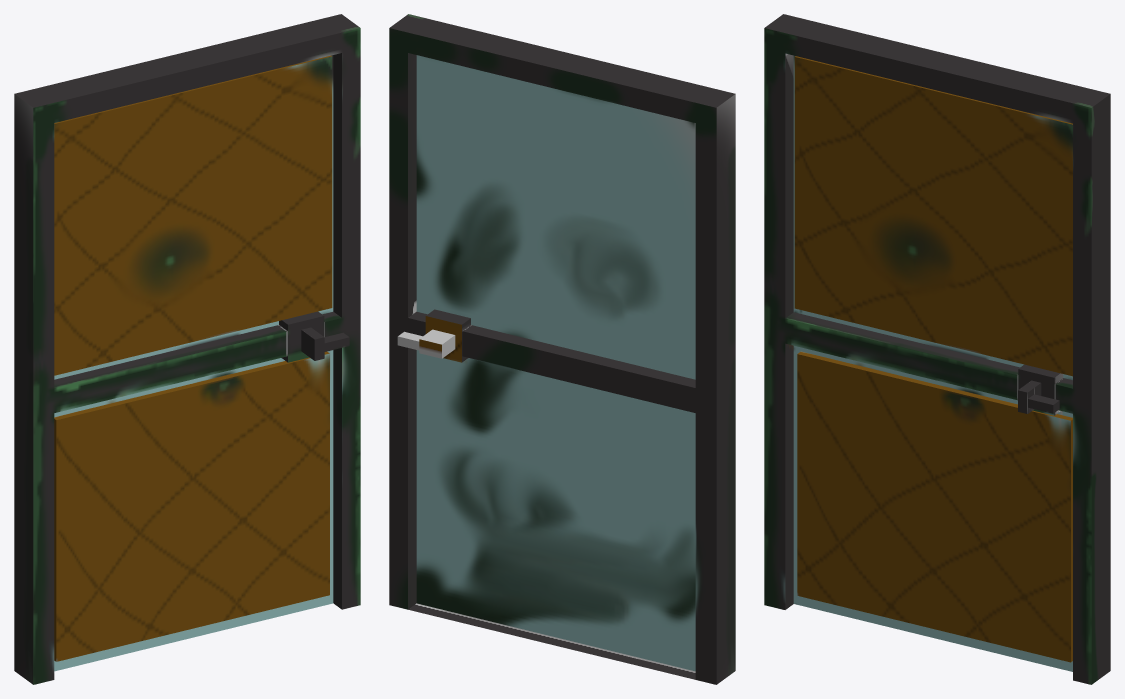
The model's file is Doormodell.fbx.
The picture shows the model from 3 angles, left to right: view 1: azimuth 30°, elevation 25°; view 2: azimuth 150°, elevation 25°; view 3: azimuth 330°, elevation 25°; orthographic projection.
Visible parts, largest first — view 1: Cube; view 2: Cube; view 3: Cube.
Boxes of the visible parts, <box> form: Cube: <box>14,14,360,684</box>; Cube: <box>389,14,735,684</box>; Cube: <box>764,14,1110,684</box>.
Bounding box in the file's own units: 200 × 337 × 49.23.
1 material, 1 textured.
